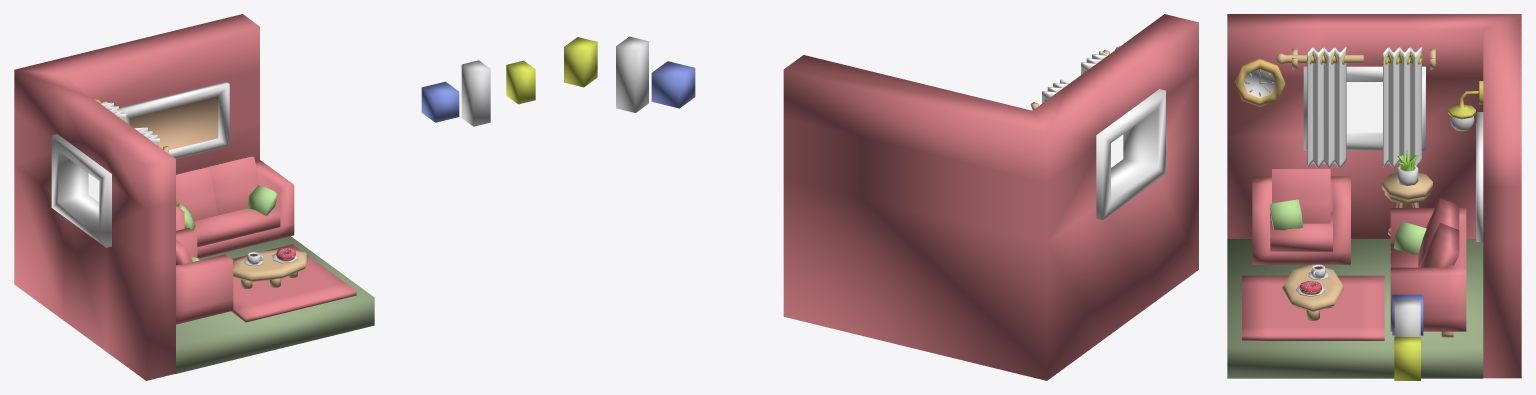
3 renders of one model, left to right at view 1: azimuth 30°, elevation 25°; view 2: azimuth 150°, elevation 25°; view 3: azimuth 270°, elevation 25°, orthographic. The views are drawn at different scales.
Visible parts, largest first — view 1: Walls, Floor, Picture Frame, Window, Couch, Rug, Couch.001, Cushion.001, Cube.001, Cushion, Coffee Table, Cube (+2 smaller); view 2: Walls, Window, Cube.001, Cube, Cube.002; view 3: Walls, Floor, Rug, Couch.001, Couch, Curtain, Curtain.001, Window, Cushion.002, Clock, Coffee Table, Cushion.001 (+13 smaller).
Part boxes in pixels (x1,y1,x2,y2): Walls: [14, 14, 259, 380]; Floor: [176, 236, 374, 373]; Picture Frame: [119, 82, 229, 158]; Window: [51, 134, 111, 247]; Couch: [176, 160, 294, 258]; Rug: [231, 244, 356, 322]; Couch.001: [176, 228, 233, 324]; Cushion.001: [201, 156, 259, 215]; Cube.001: [461, 60, 490, 126]; Cushion: [176, 167, 217, 221]; Coffee Table: [233, 249, 308, 288]; Cube: [421, 81, 459, 122]; Walls: [783, 14, 1198, 380]; Window: [1096, 89, 1165, 220]; Cube.001: [616, 36, 648, 112]; Cube: [651, 61, 695, 108]; Cube.002: [564, 37, 597, 87]; Walls: [1227, 14, 1521, 378]; Floor: [1227, 239, 1483, 378]; Rug: [1242, 275, 1384, 340]; Couch.001: [1252, 176, 1350, 264]; Couch: [1390, 208, 1466, 331]; Curtain: [1307, 47, 1346, 168]; Curtain.001: [1383, 47, 1421, 168]; Window: [1303, 66, 1425, 150]; Cushion.002: [1272, 168, 1330, 223]; Clock: [1234, 59, 1285, 106]; Coffee Table: [1282, 264, 1344, 320]; Cushion.001: [1418, 222, 1459, 267].
Size of what is drawn, in the model's own units: 7.22 by 3.15 by 3.51.
